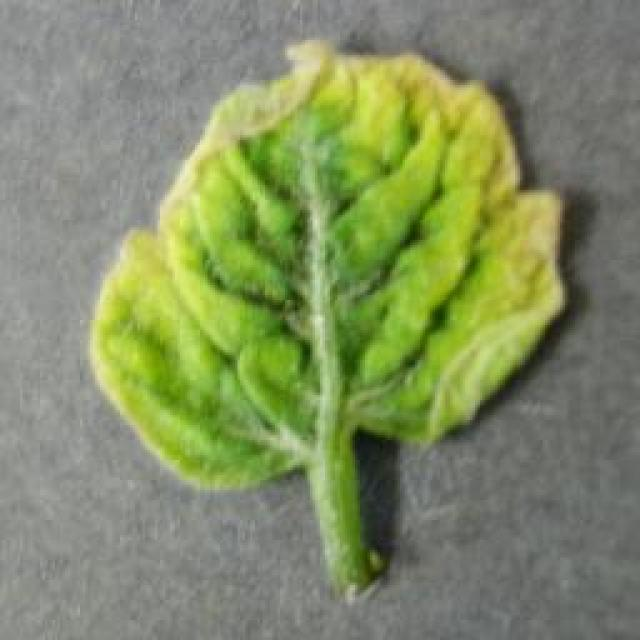Tomato yellow virus leaf: (88, 38, 570, 494)
